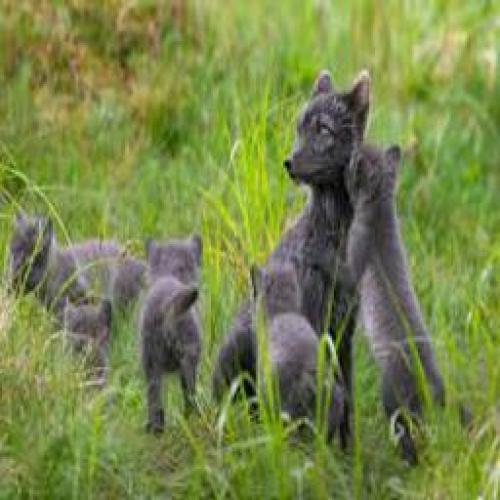arctic_fox-endangered: (212, 69, 373, 435), (331, 148, 469, 430), (243, 268, 354, 445), (151, 237, 215, 439), (6, 207, 127, 309), (57, 305, 122, 394)
